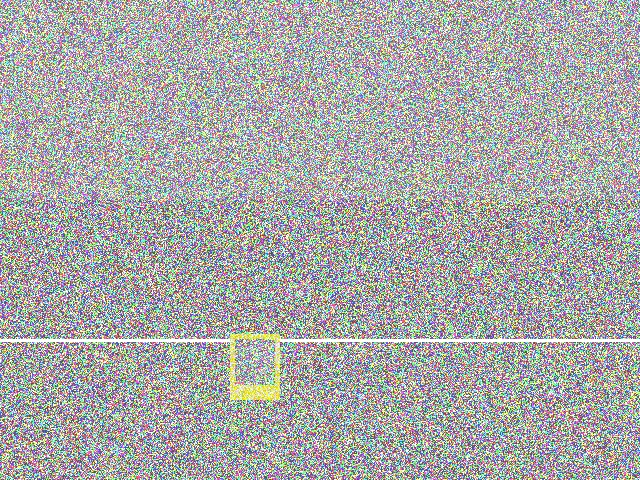bus: (166, 229, 261, 280)
car: (104, 293, 285, 377)
